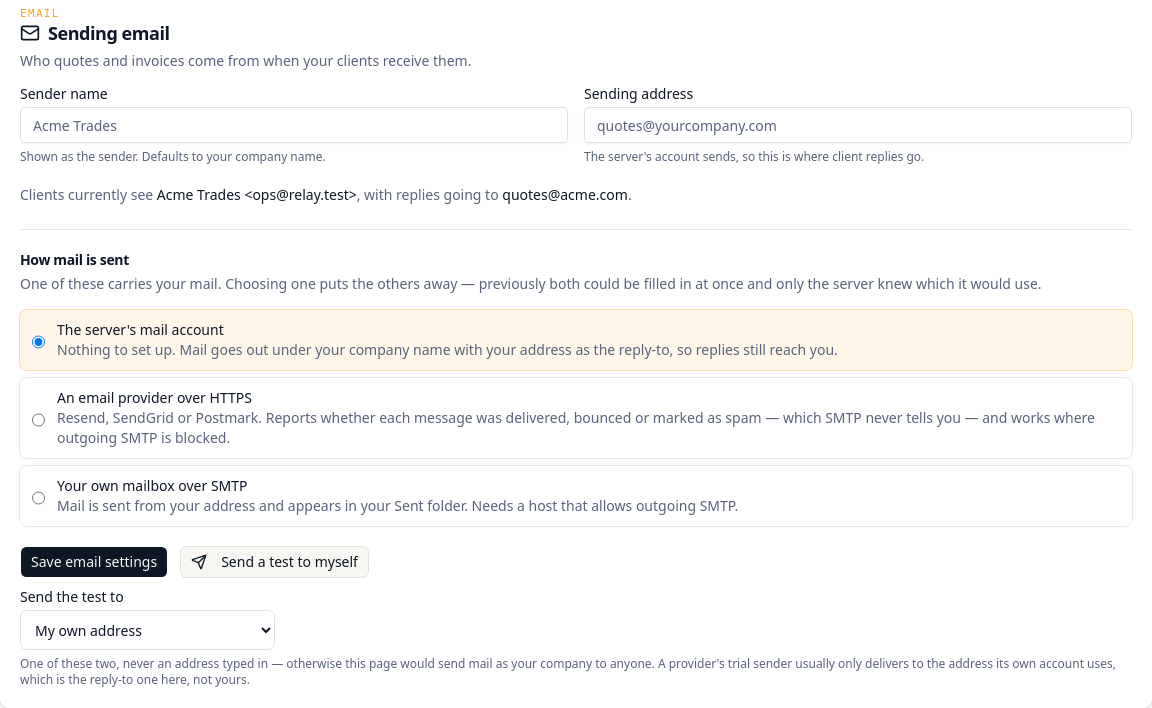
Test: explains that the provider's key goes in the password field
Click the radio button labelled "own mailbox": (38, 498) 32,480 -> 45,516
(page scrolled)
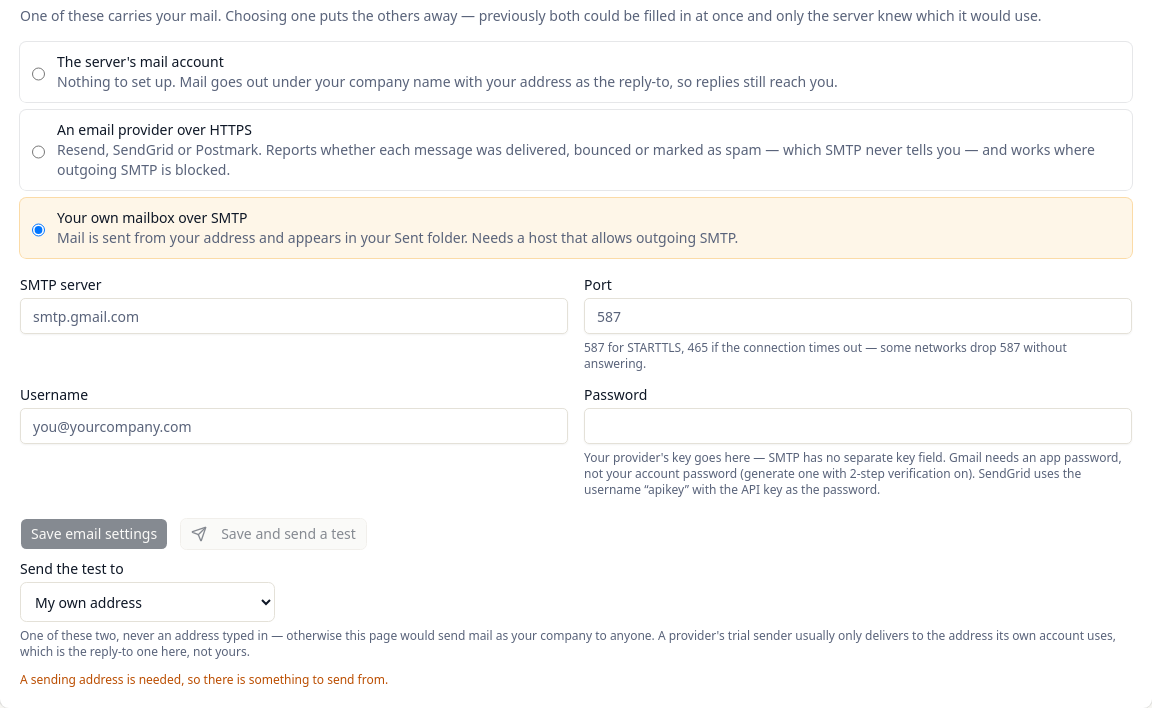
expect the text "no separate key field" is shown: met, box 584,449 -> 1122,498
